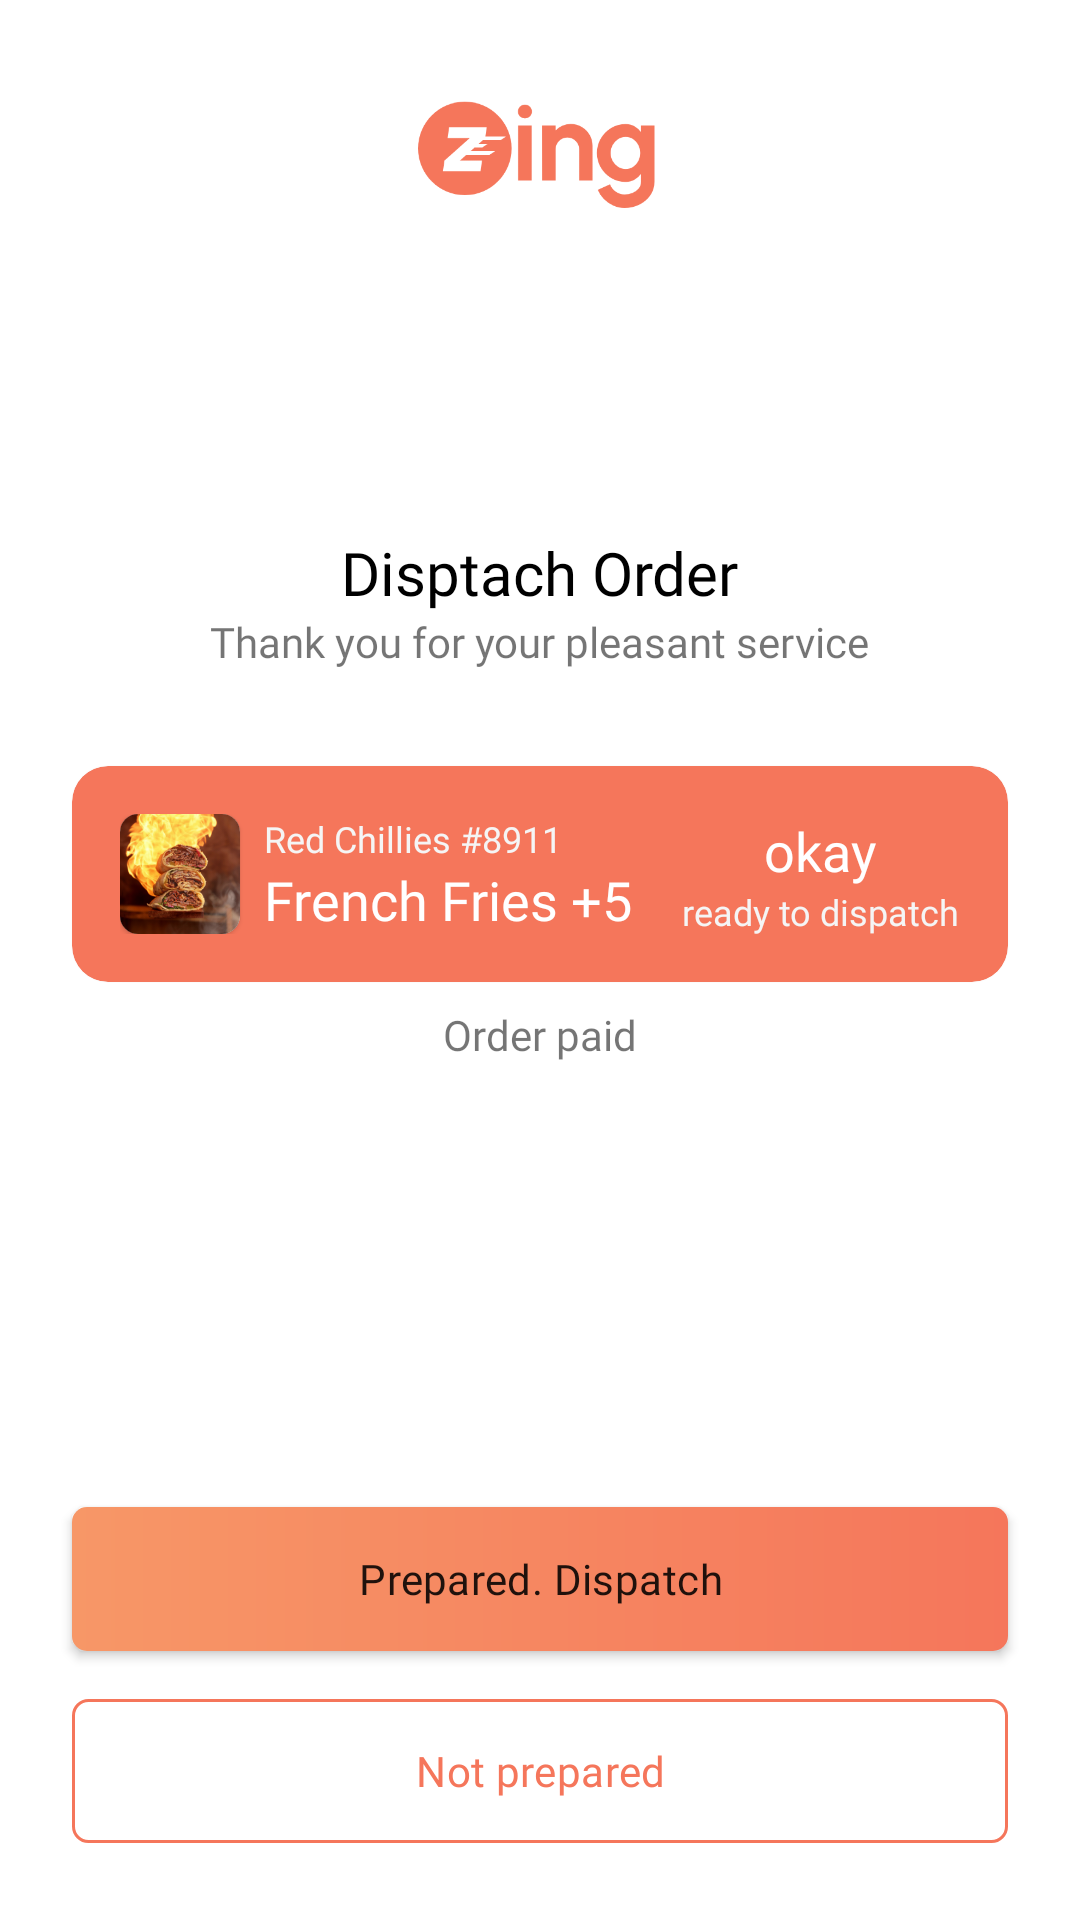

Icons on this 1080 × 1920 Android screen, each with the point to tap as [x,y]:
food: [180,874]
